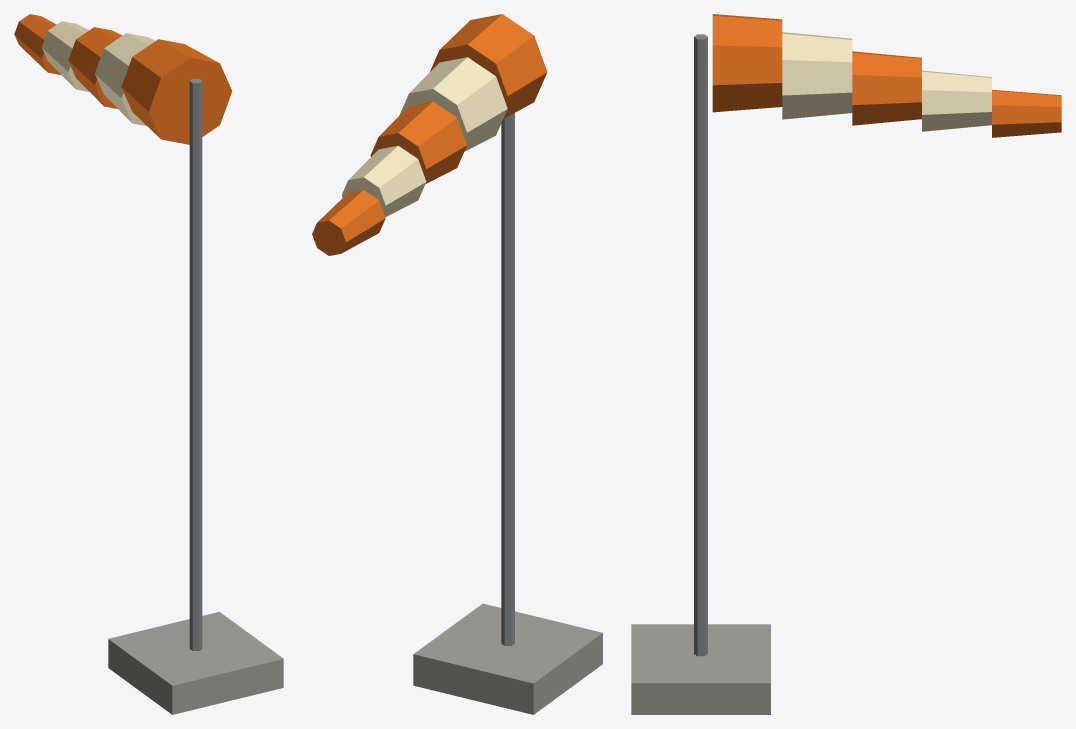
Rendered from biruta.glb.
3 renders of one model, left to right at view 1: azimuth 30°, elevation 25°; view 2: azimuth 150°, elevation 25°; view 3: azimuth 270°, elevation 25°, orthographic. The views are drawn at different scales.
Visible parts, largest first — view 1: biruta; view 2: biruta; view 3: biruta.
Part boxes in pixels (box(x1,y1,x2,y2)): biruta: box(14, 14, 283, 714); biruta: box(312, 14, 602, 714); biruta: box(631, 14, 1061, 714).
Size of the model in its own units: 1.2 by 6.35 by 3.7.
